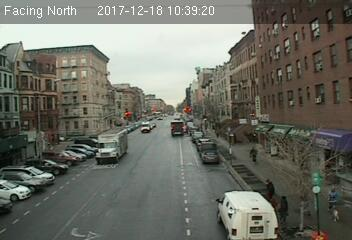car: (201, 150, 218, 164)
pedestrian: (250, 146, 259, 164)
truck: (216, 189, 278, 240), (93, 126, 130, 161)
ups: (169, 120, 184, 136)
